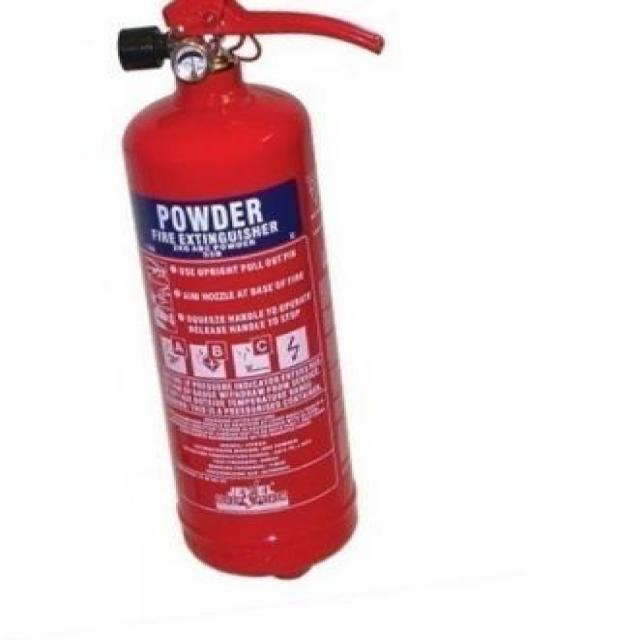fire_extinguisher: (100, 0, 398, 588)
